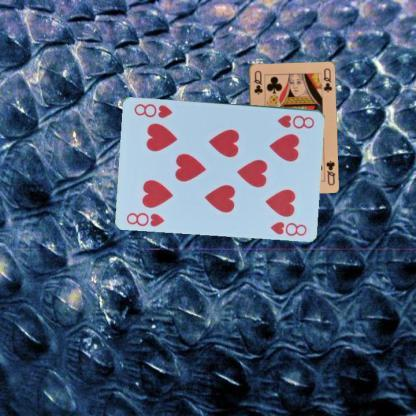8h: (124, 209, 166, 228), (274, 112, 316, 130)
Qc: (322, 158, 336, 186), (252, 68, 263, 96)
